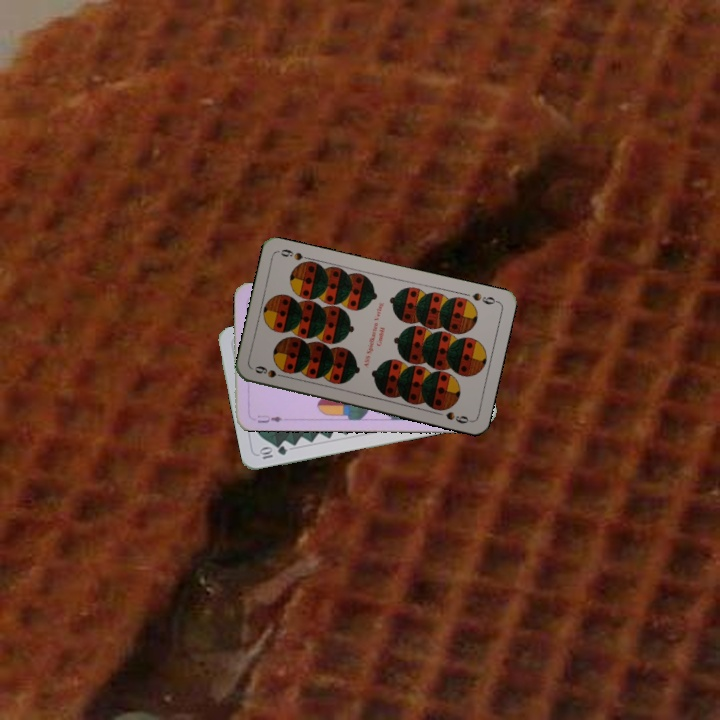EU: (253, 411, 285, 426)
G10: (255, 442, 290, 462)
S9: (250, 362, 290, 380), (468, 289, 500, 307)
